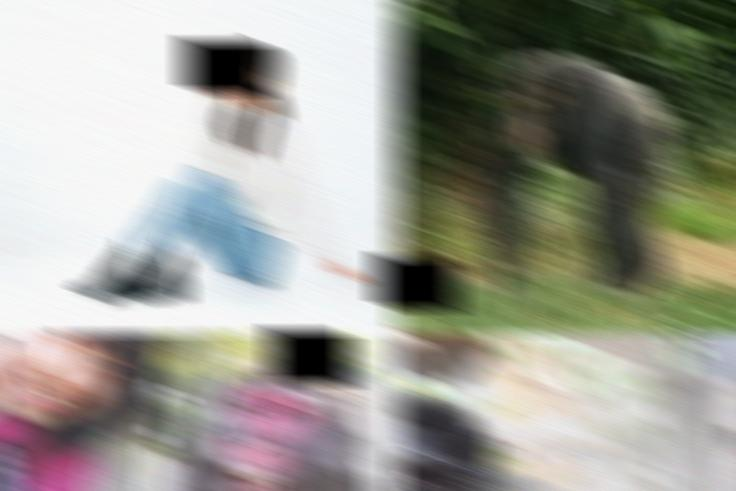Macaca fuscata: (161, 347, 384, 491)
chimpanzee: (478, 52, 671, 296), (391, 393, 698, 491)
human: (69, 36, 370, 301), (0, 331, 167, 491)
